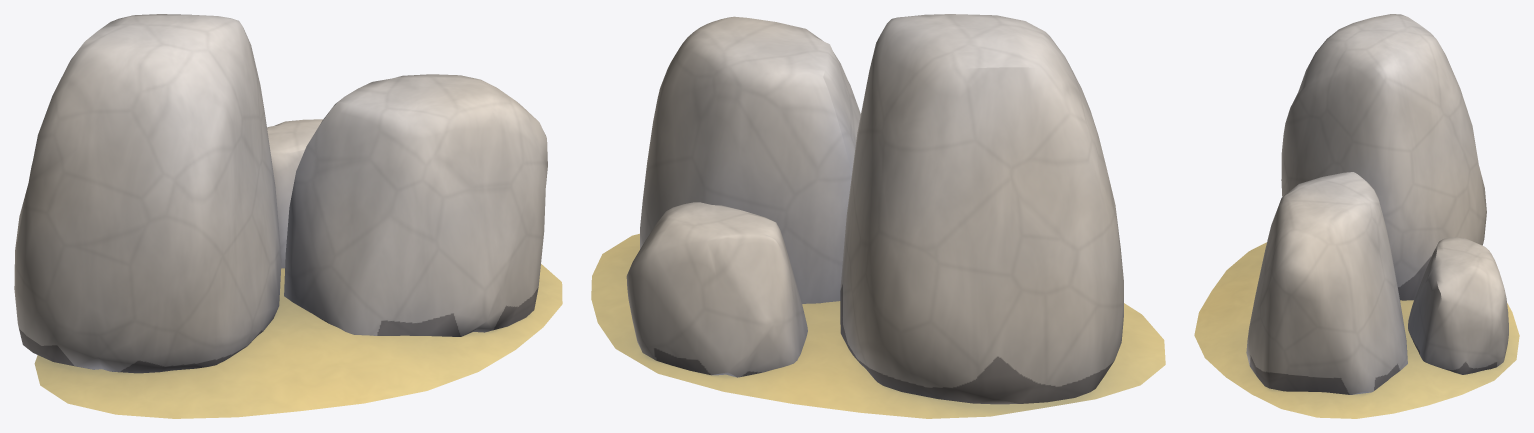
The model's file is CC_P12_CoastRocks.fbx.
3 views of the same model, side by side, from view 1: azimuth 30°, elevation 25°; view 2: azimuth 150°, elevation 25°; view 3: azimuth 270°, elevation 25° (orthographic). The views are drawn at different scales.
Parts seen in each view (by area): view 1: Rocks, Sand; view 2: Rocks, Sand; view 3: Rocks, Sand.
Boxes of the visible parts, <box> form: Rocks: <box>14,14,547,373</box>; Sand: <box>34,264,562,418</box>; Rocks: <box>626,14,1123,404</box>; Sand: <box>591,233,1165,418</box>; Rocks: <box>1246,14,1508,394</box>; Sand: <box>1194,242,1519,418</box>.
Bounding box in the file's own units: 2.45 × 1.45 × 1.74.
